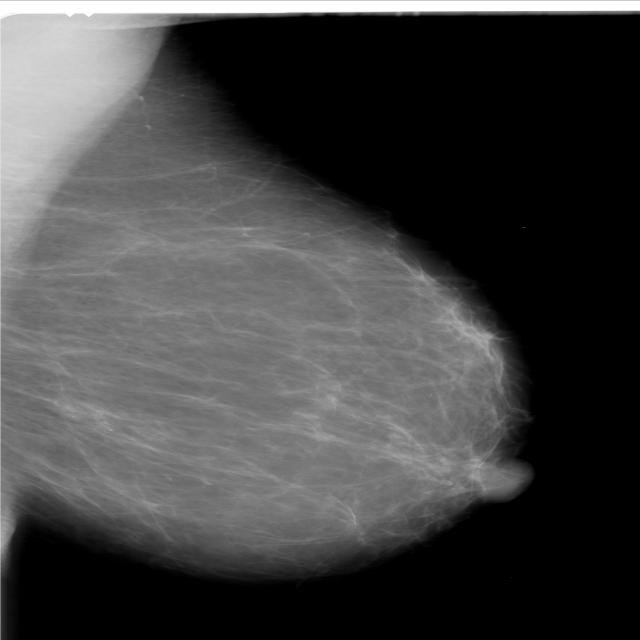normal: (0, 64, 535, 577)
